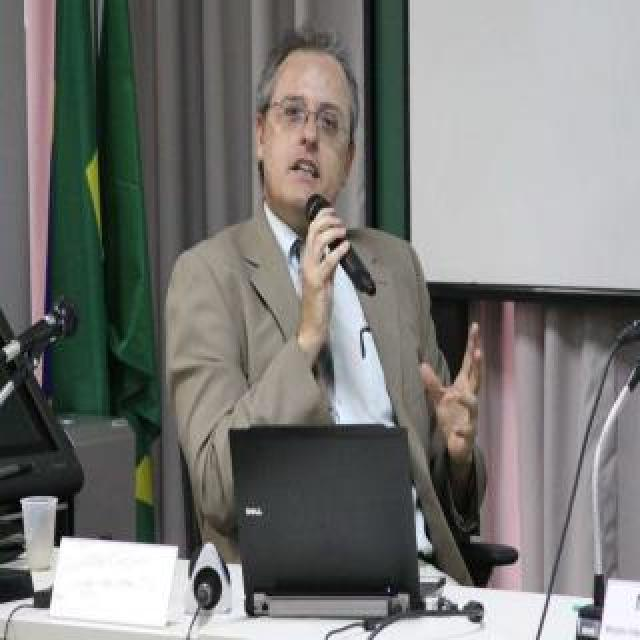laptop_computer: (224, 418, 449, 630)
